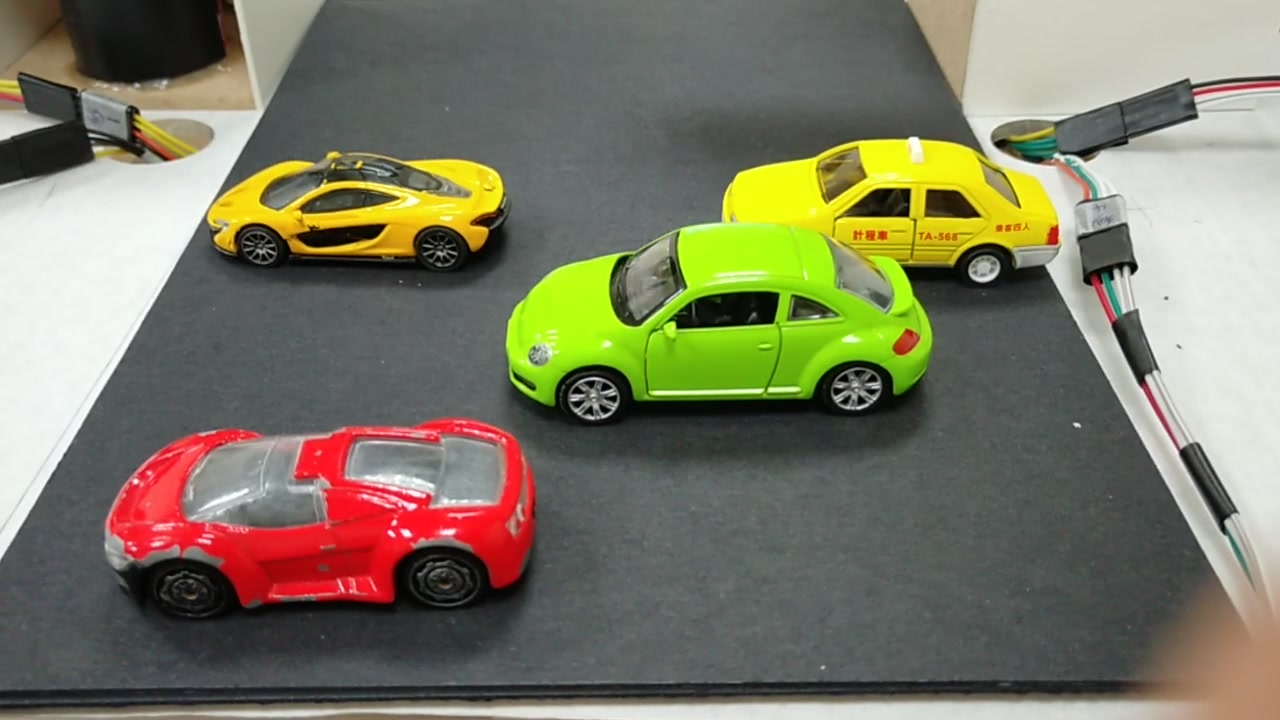car: (507, 223, 931, 420), (99, 424, 540, 604), (719, 131, 1062, 269), (212, 156, 512, 273)
